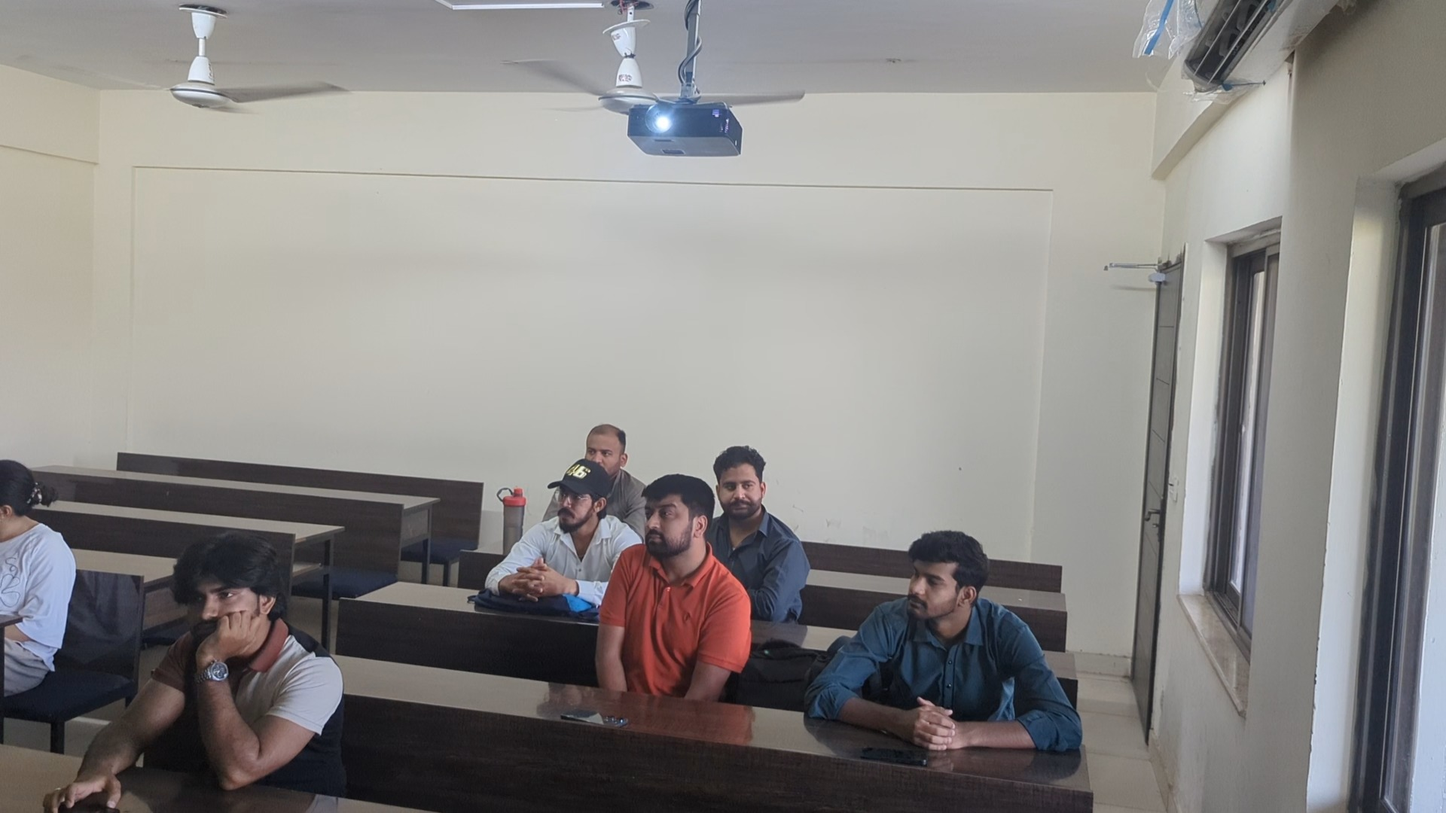look_forward: (60, 530, 349, 796), (819, 520, 1081, 754), (604, 470, 739, 702), (485, 457, 629, 598)
turn_head: (717, 438, 814, 613)
